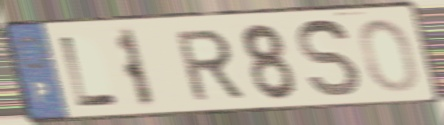1: (113, 24, 160, 111)
8: (240, 20, 300, 102)
L: (57, 34, 122, 110)
O: (357, 16, 421, 95)
R: (172, 26, 247, 104)
S: (296, 16, 363, 100)
